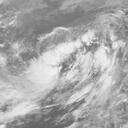cyclone: (34, 30, 111, 94)
